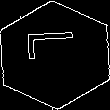L_E: (26, 38, 84, 72)
